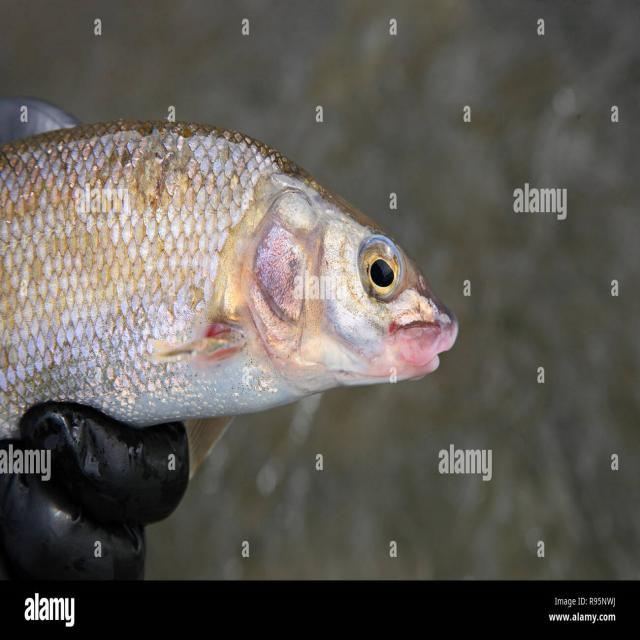EUS Disease: (1, 120, 476, 414)
